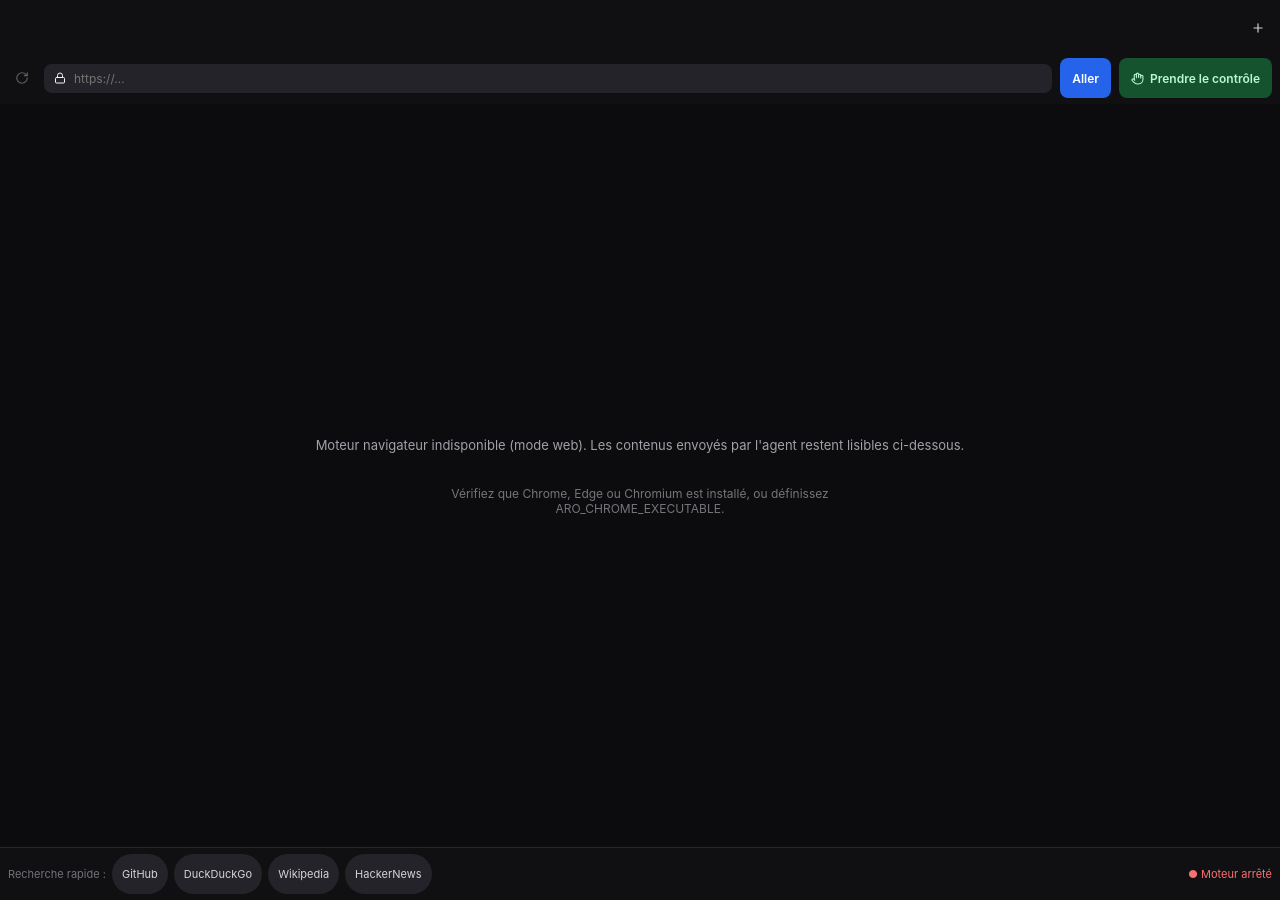
Test: BrowserWorkspace › takes and releases user control
Click the button "Prendre le contrôle". click: (1196, 78)
box: x1=1119 y1=58 x2=1272 y2=98
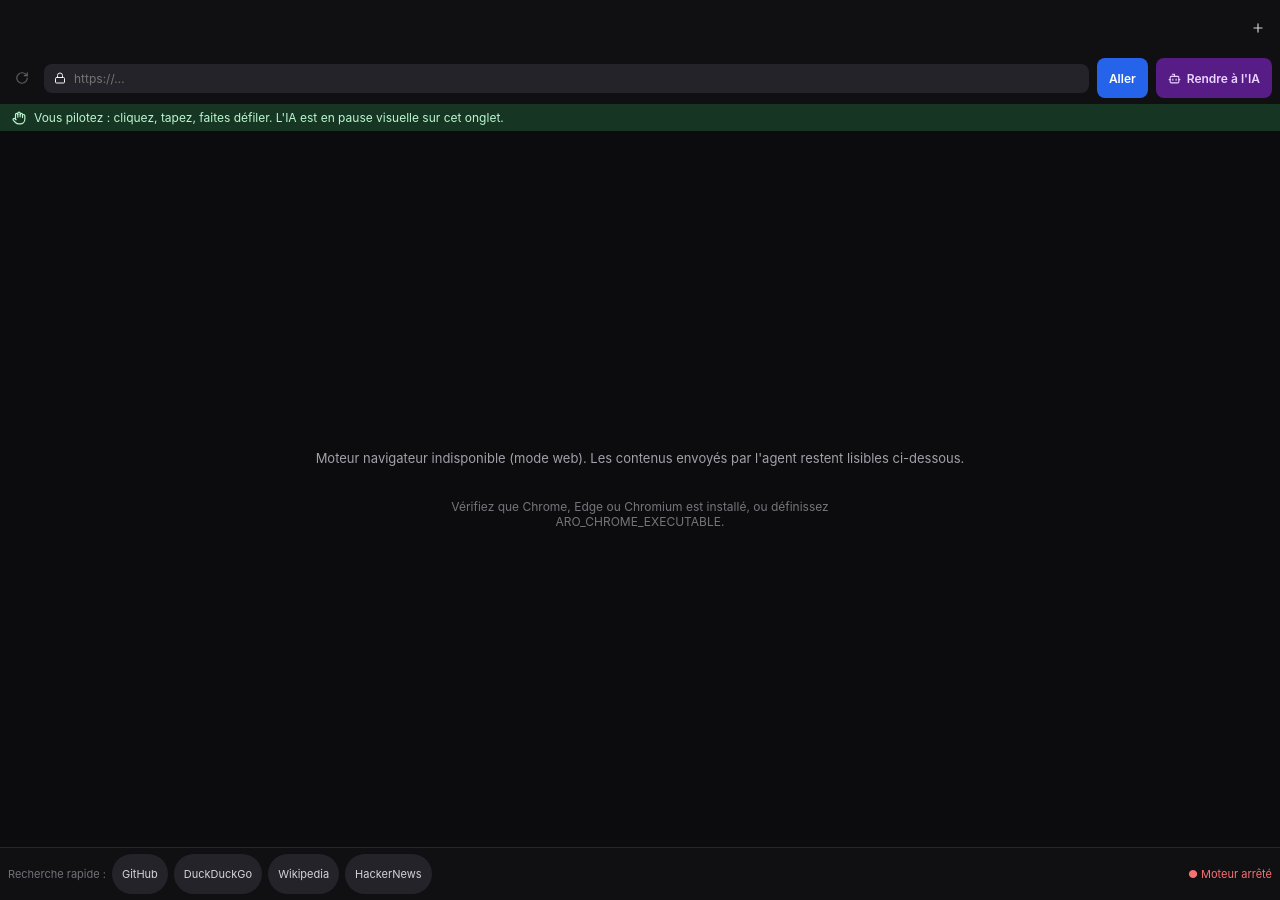
Now the text "Vous pilotez" is shown, box x1=34 y1=110 x2=504 y2=125
Click the button "Rendre à l'IA". click: (1214, 78)
box: x1=1156 y1=58 x2=1272 y2=98
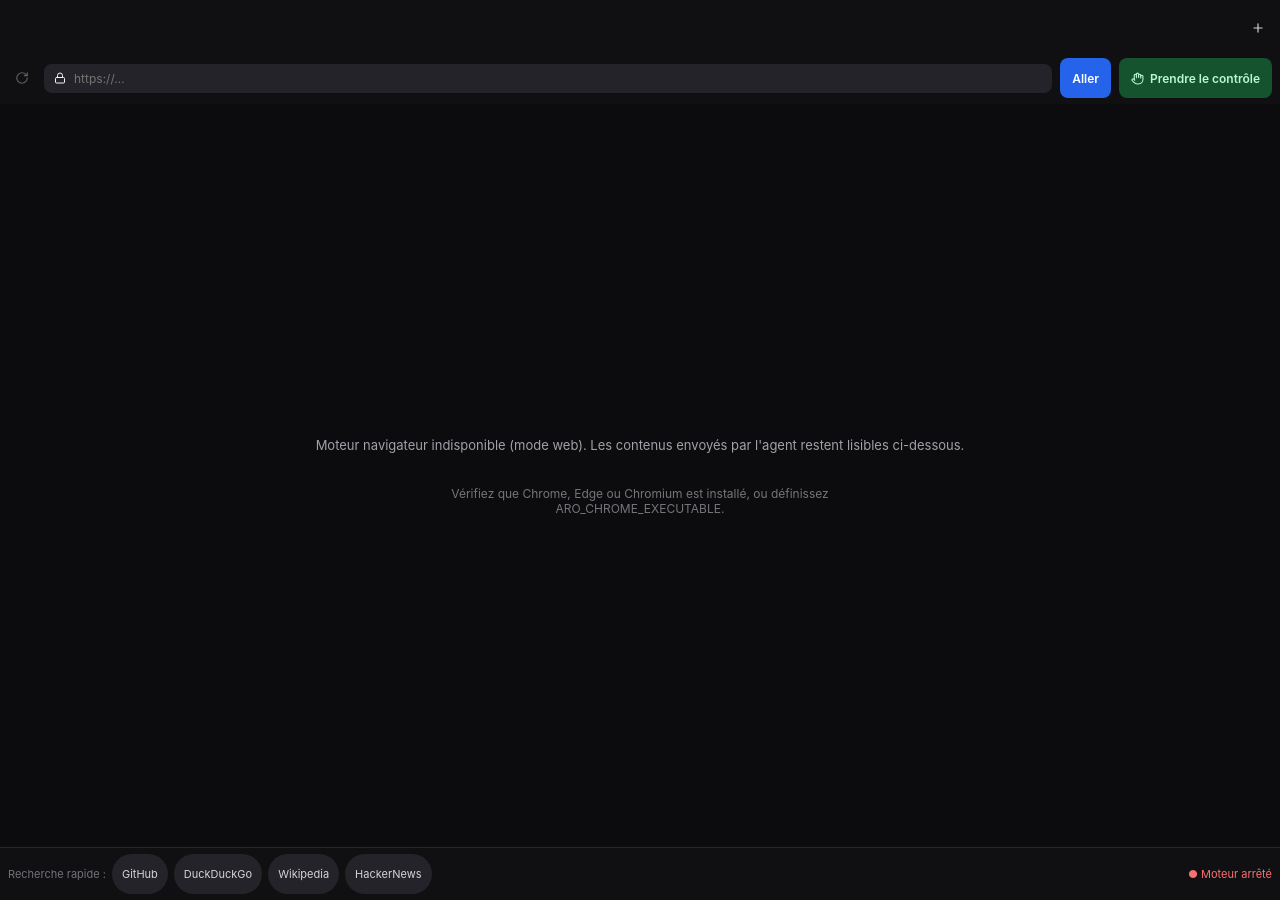
Now the text "Prendre le contrôle" is shown, box x1=1150 y1=70 x2=1260 y2=86
